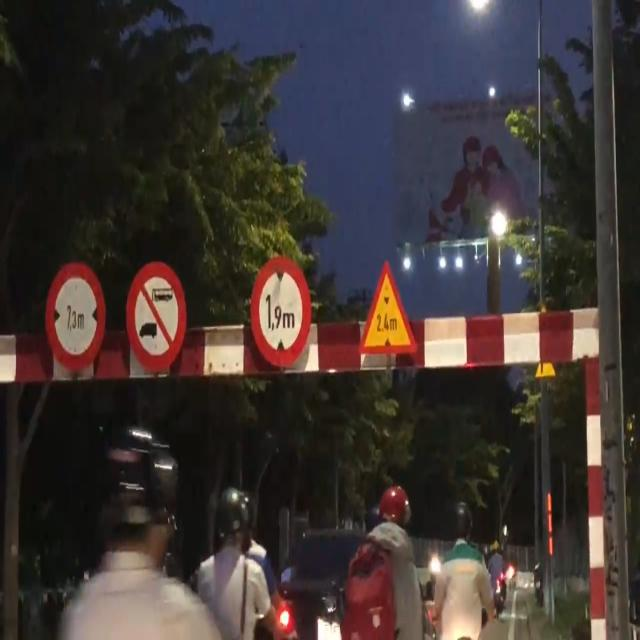Bien bao cam xe oto khach va xe oto tai: (125, 253, 192, 380)
Bien bao chieu cao tinh khong thuc te: (357, 248, 424, 365)
Bien bao han che chieu cao: (244, 252, 316, 374)
